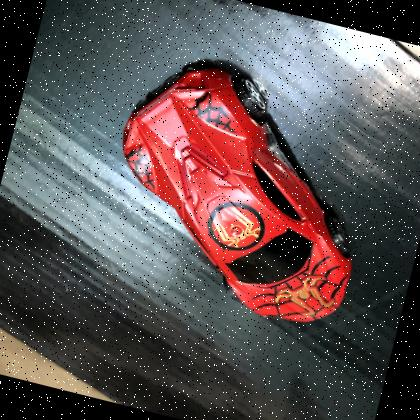Car: (121, 58, 352, 321)
